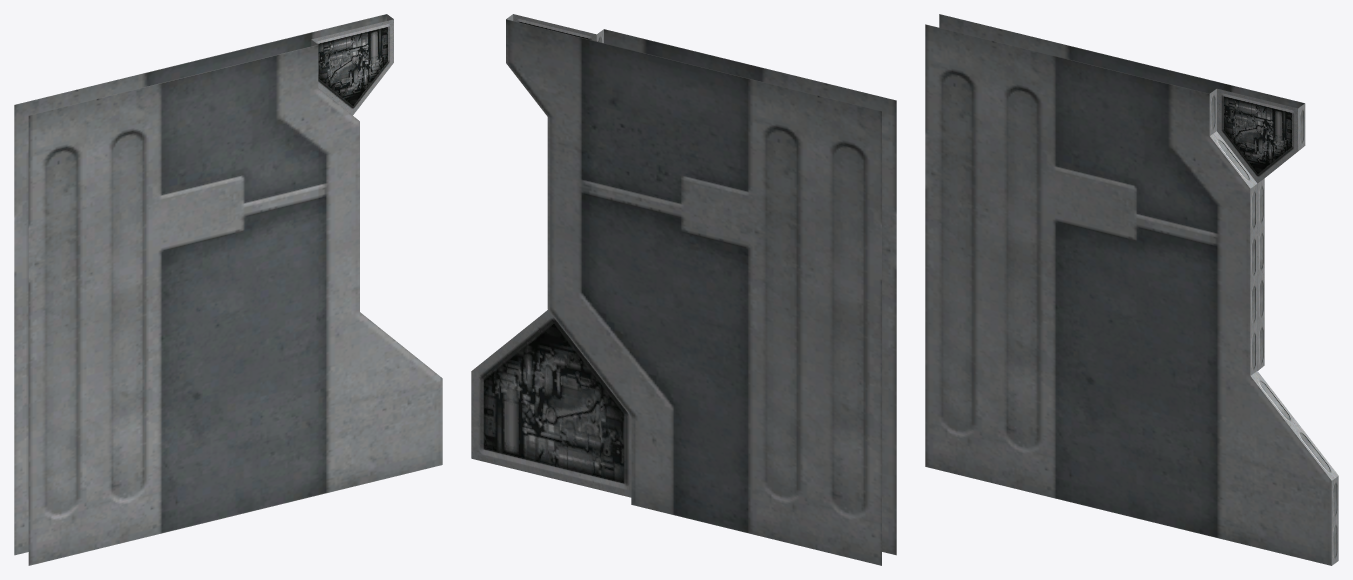
The model's file is door_nboo_emp_s06.fbx.
3 views of the same model, side by side, from view 1: azimuth 30°, elevation 25°; view 2: azimuth 150°, elevation 25°; view 3: azimuth 330°, elevation 25° (orthographic). The views are drawn at different scales.
Visible parts, largest first — view 1: mesh_node; view 2: mesh_node; view 3: mesh_node.
Boxes of the visible parts, <box> form: mesh_node: <box>14,14,442,565</box>; mesh_node: <box>471,14,896,565</box>; mesh_node: <box>925,14,1338,565</box>.
Bounding box in the file's own units: 5 × 5.2 × 0.3.
